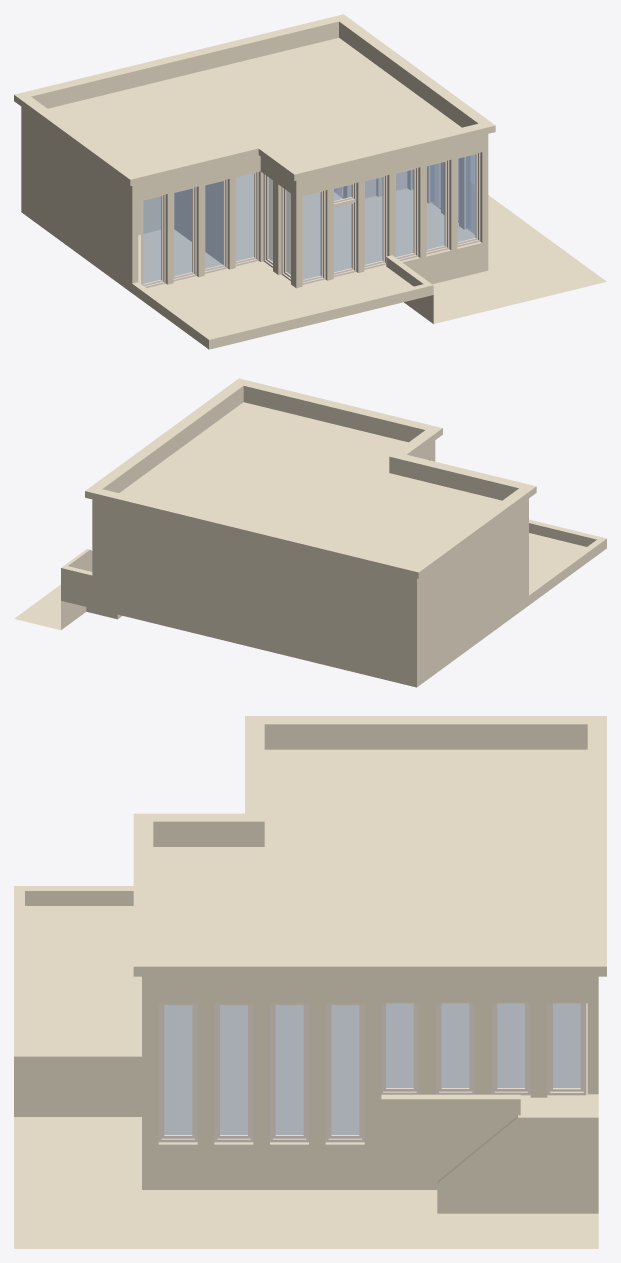
3 views of the same model, one above another, from view 1: azimuth 30°, elevation 25°; view 2: azimuth 150°, elevation 25°; view 3: azimuth 270°, elevation 25° (orthographic). The views are drawn at different scales.
Parts seen in each view (by area): view 1: 23156, 22760, w1 (×9), 22646, 23691, C2 (×8), 22416, C1 (×4), w2 (×4), 22247; view 2: 22646, 23156, 23691, 22760; view 3: 22760, 23156, w2 (×7), 22646, C1 (×8), 23691, 22067.
Part boxes in pixels (x1=…): 23156: x1=48, y1=20, x2=488, y2=200; 22760: x1=132, y1=164, x2=606, y2=349; w1 (×9): x1=141, y1=153, x2=480, y2=287; 22646: x1=21, y1=17, x2=344, y2=292; 23691: x1=14, y1=14, x2=495, y2=186; C2 (×8): x1=165, y1=158, x2=457, y2=284; 22416: x1=138, y1=177, x2=235, y2=269; C1 (×4): x1=273, y1=151, x2=488, y2=288; w2 (×4): x1=263, y1=154, x2=475, y2=280; 22247: x1=333, y1=183, x2=356, y2=277; 22646: x1=61, y1=486, x2=528, y2=687; 23156: x1=96, y1=381, x2=522, y2=564; 23691: x1=85, y1=378, x2=536, y2=578; 22760: x1=14, y1=519, x2=606, y2=630; 22760: x1=14, y1=886, x2=598, y2=1248; 23156: x1=142, y1=724, x2=587, y2=1003; w2 (×7): x1=158, y1=1003, x2=530, y2=1142; 22646: x1=253, y1=719, x2=598, y2=1205; C1 (×8): x1=142, y1=1003, x2=547, y2=1144; 23691: x1=133, y1=716, x2=606, y2=976; 22067: x1=547, y1=1003, x2=586, y2=1095.
Bounding box in the file's own units: 12.99 × 4.5 × 10.65.
